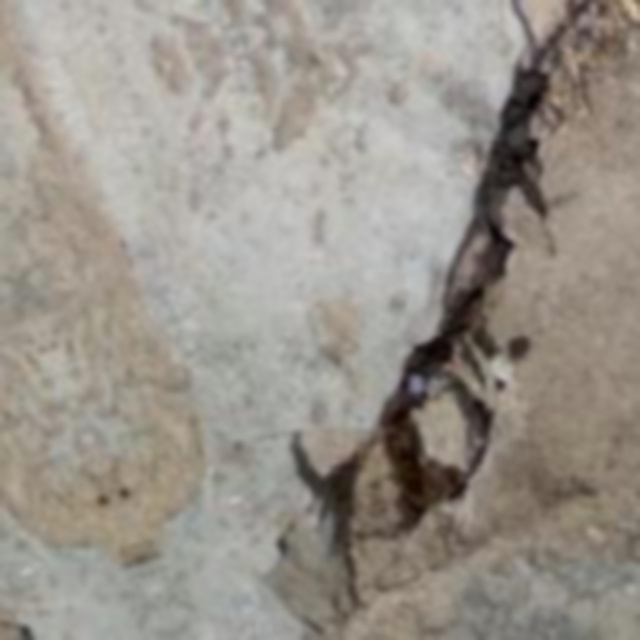SurfaceCrack: (248, 42, 600, 560)
